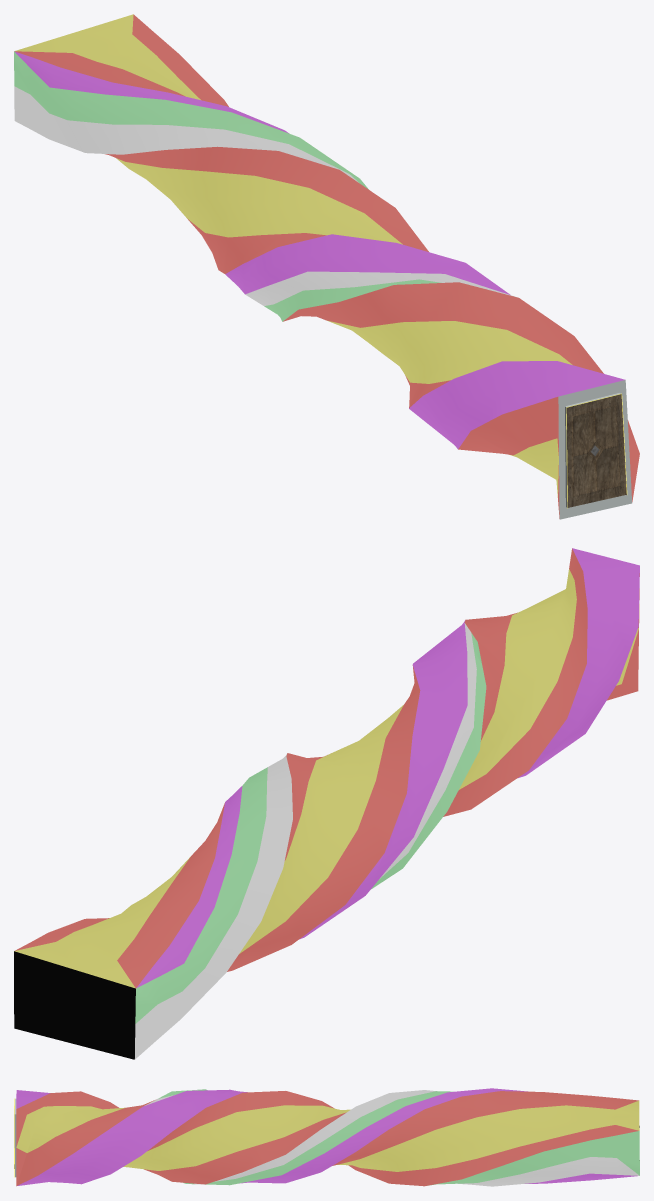
File: spiralDoor.glb
The picture shows the model from 3 angles, top to bottom: view 1: azimuth 30°, elevation 25°; view 2: azimuth 150°, elevation 25°; view 3: azimuth 270°, elevation 25°; orthographic projection. The views are drawn at different scales.
Parts seen in each view (by area): view 1: spiralDoor, spiralDoor.001; view 2: spiralDoor; view 3: spiralDoor.
Part boxes in pixels (box(x1,y1,x2,y2)): spiralDoor: box(14, 14, 639, 519); spiralDoor.001: box(566, 394, 626, 507); spiralDoor: box(14, 548, 639, 1059); spiralDoor: box(14, 1088, 639, 1186).
Size of what is drawn, in the model's own units: 10.19 by 10.24 by 65.17.
10 materials, 1 textured.
